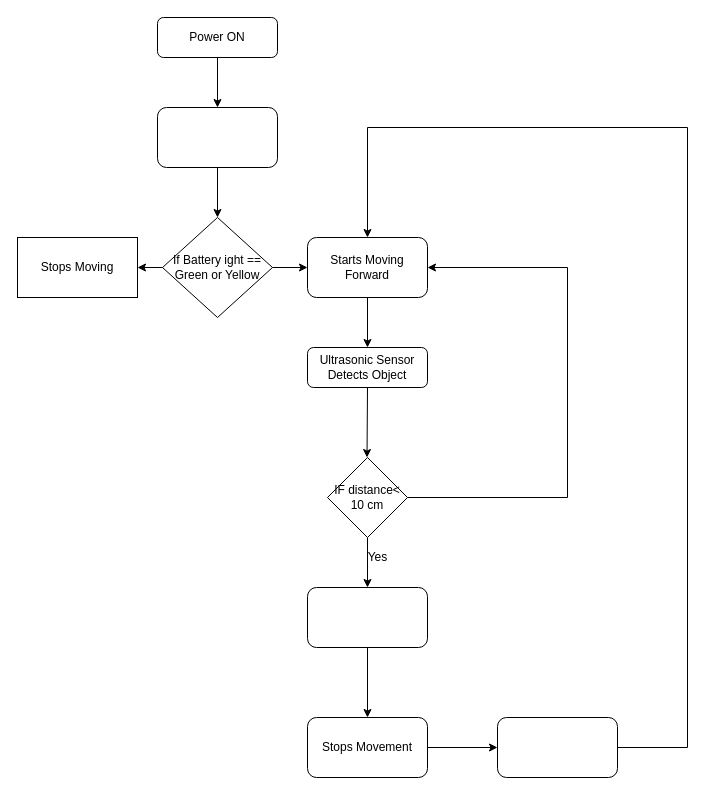
The diagram is 713 pixels wide and 795 high, and some of its shapes have lost their labels. The shapes that lost their labels are listed below. From the top down, each one's centre as x and y in pixels, then its label:
At point 217,137: "Battery Indicator Detects Battery Level".
At point 367,617: "Buzzer ON Red LED ON".
At point 557,747: "Changes Direction".
